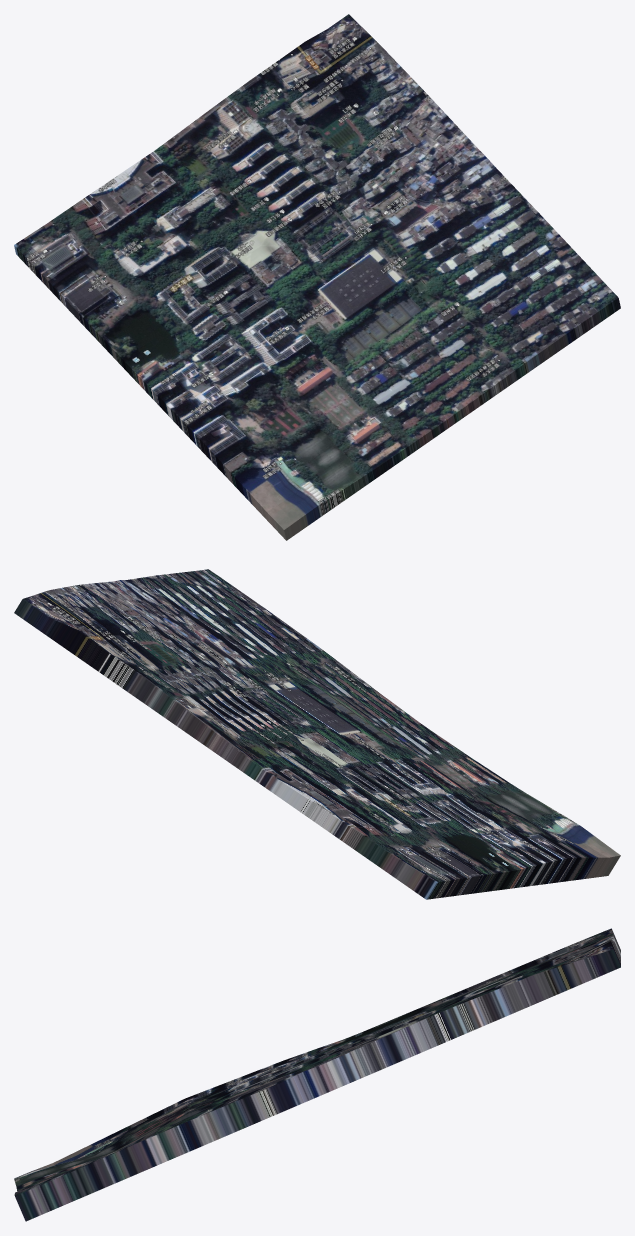
The picture shows the model from 3 angles, top to bottom: view 1: azimuth 30°, elevation 25°; view 2: azimuth 150°, elevation 25°; view 3: azimuth 270°, elevation 25°; orthographic projection. The views are drawn at different scales.
Parts seen in each view (by area): view 1: 0_8_26; view 2: 0_8_26; view 3: 0_8_26.
Part boxes in pixels (bbox=[...]): 0_8_26: bbox=[14, 14, 620, 540]; 0_8_26: bbox=[14, 569, 620, 899]; 0_8_26: bbox=[14, 928, 620, 1221].
Bounding box in the file's own units: 600 × 443 × 553.
Materials: 1 (1 with a texture image).
